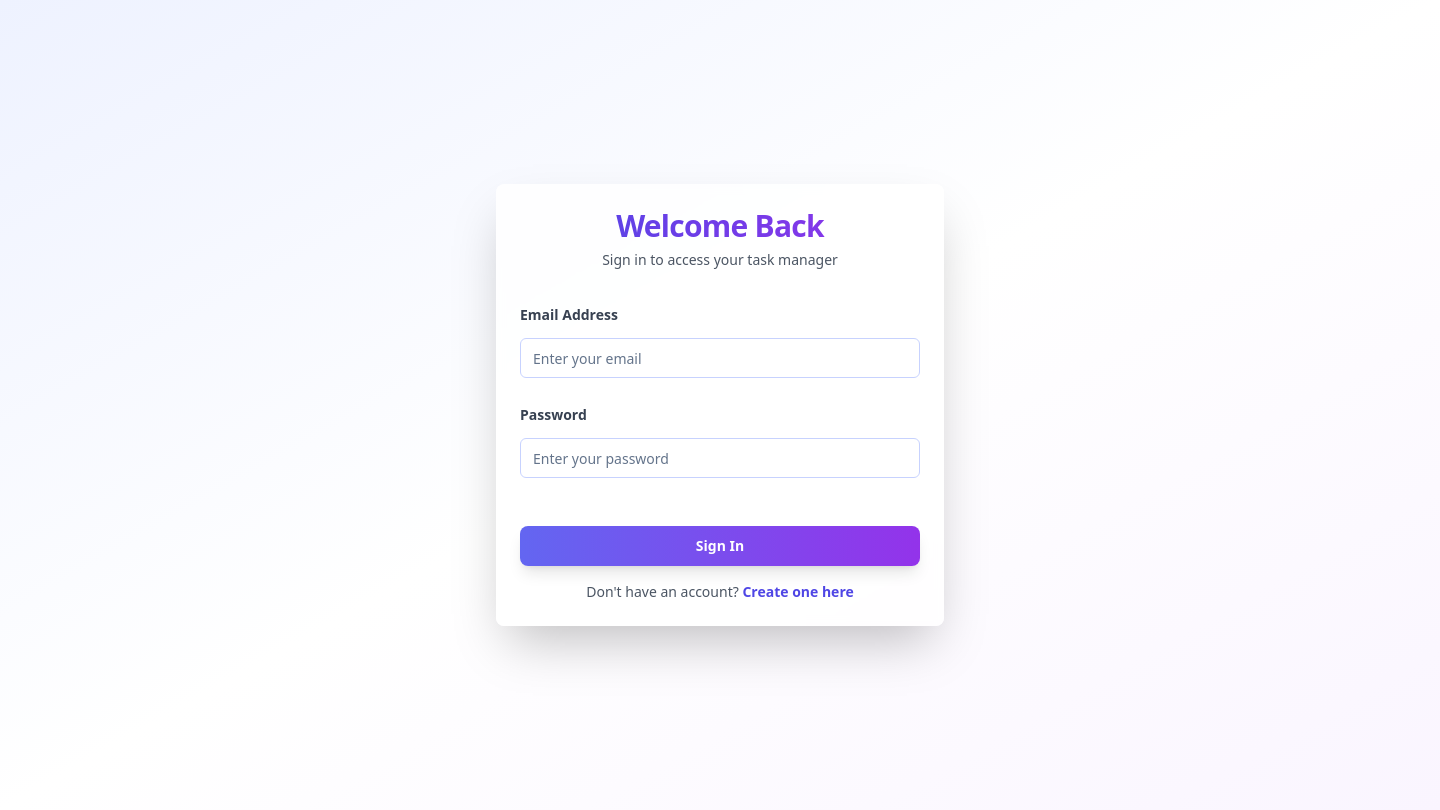
Test: App Integration Tests › redirects to tasks page after successful login
Step 1. Type "test@example.com" into the field with placeholder "Enter your email" → (720, 358), box [520,338,920,378]
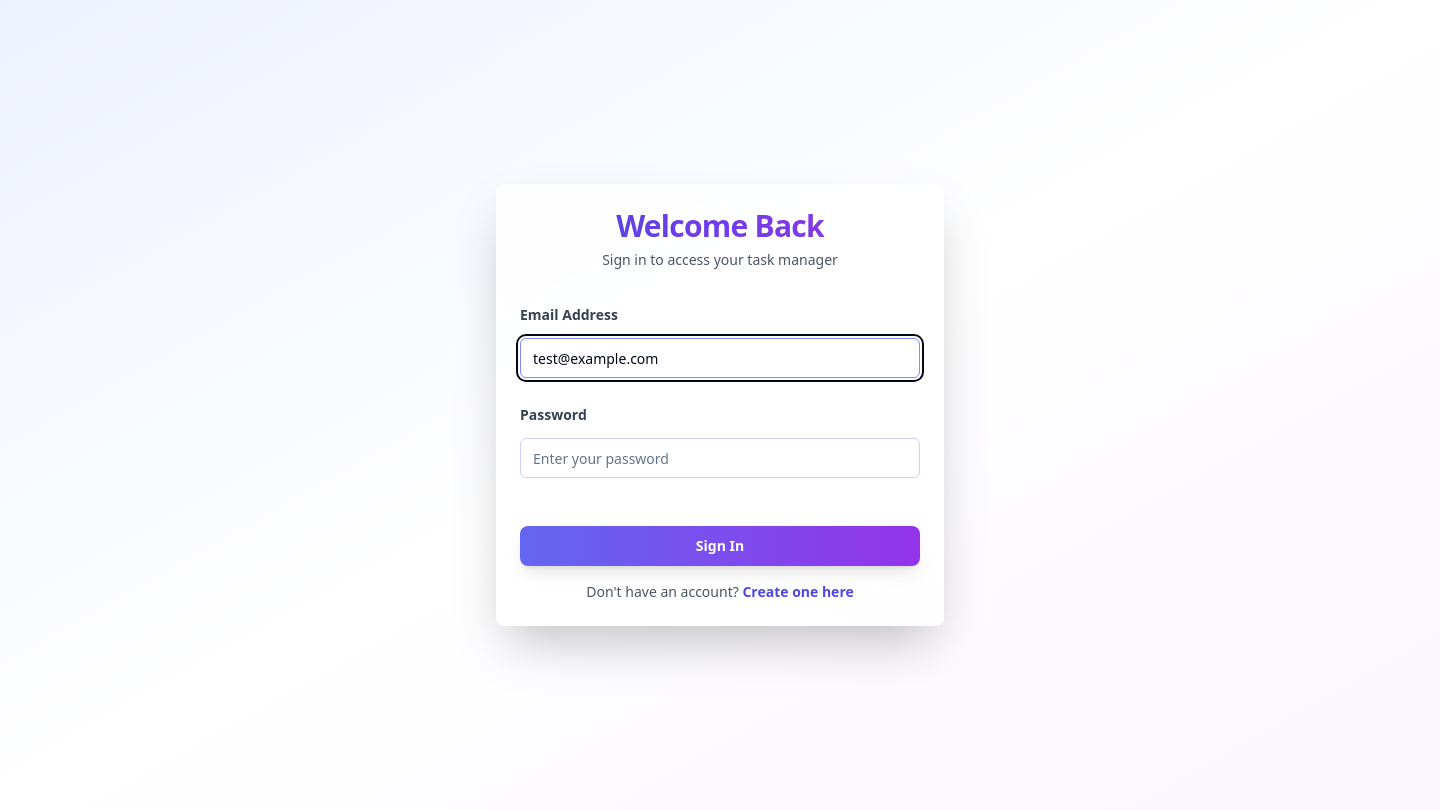
Step 2. Type "password123" into the password field with placeholder "Enter your password" → (720, 458), box [520,438,920,478]
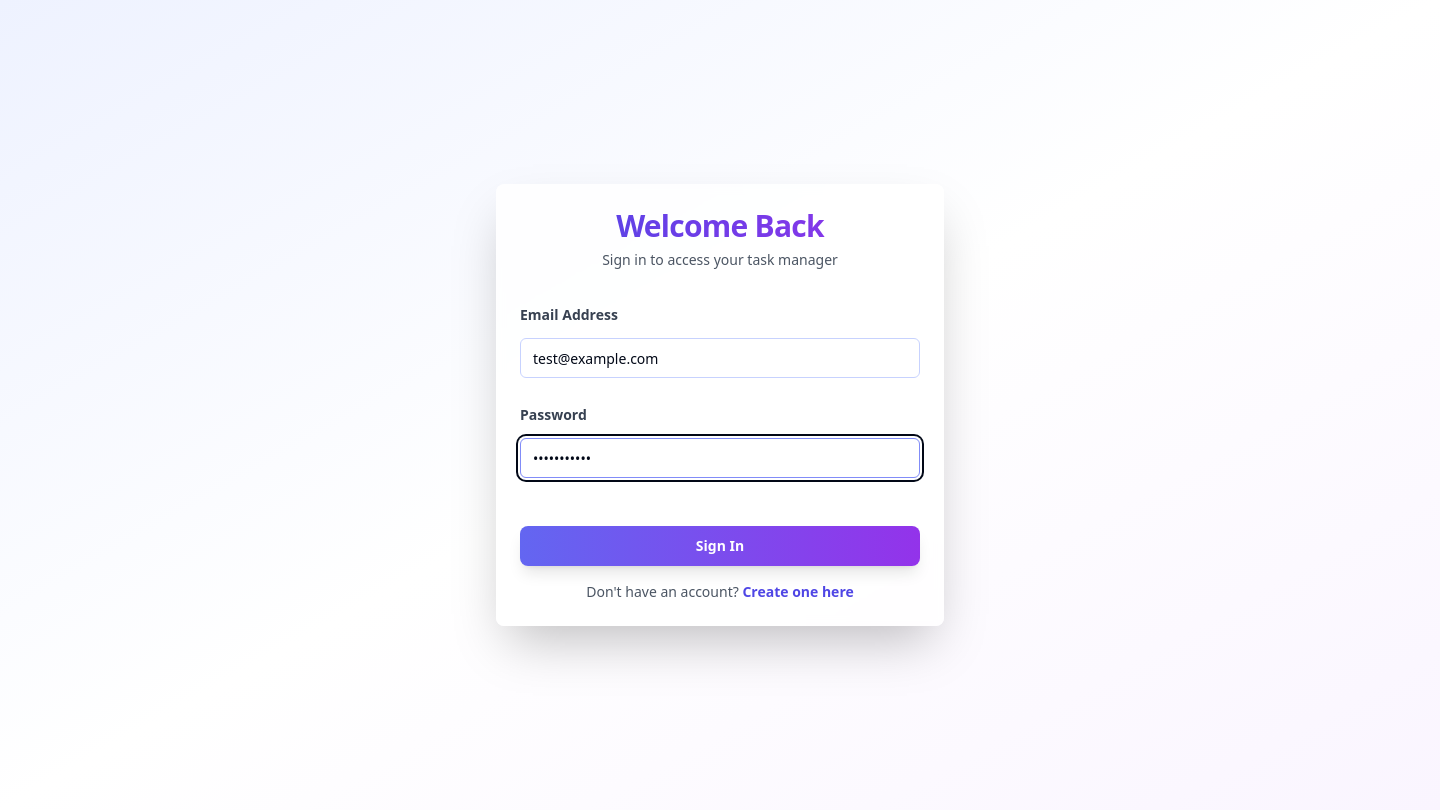
Step 3. Click the button "Sign In" → (720, 546), box [520,526,920,566]
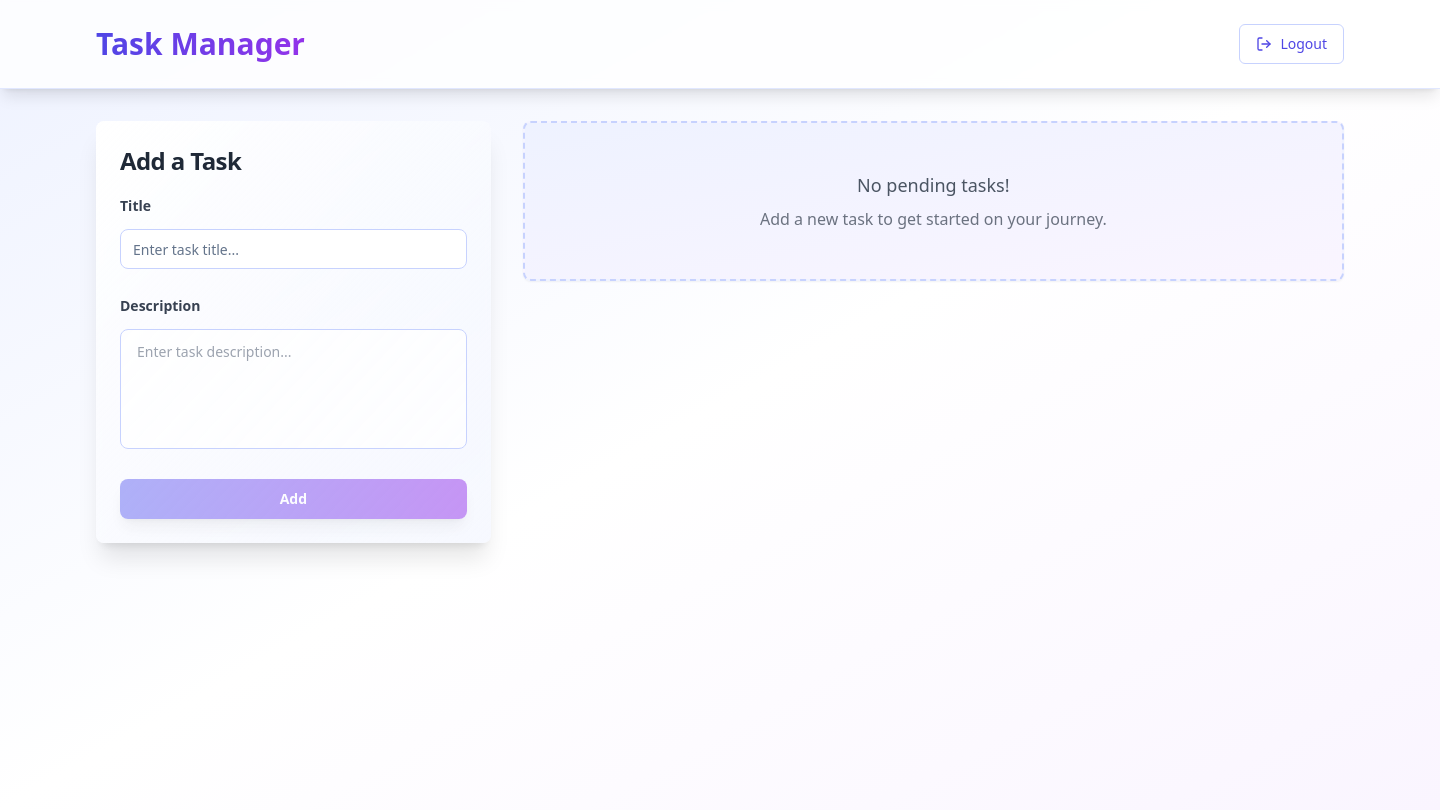
expect the heading "Welcome Back" is gone: met
